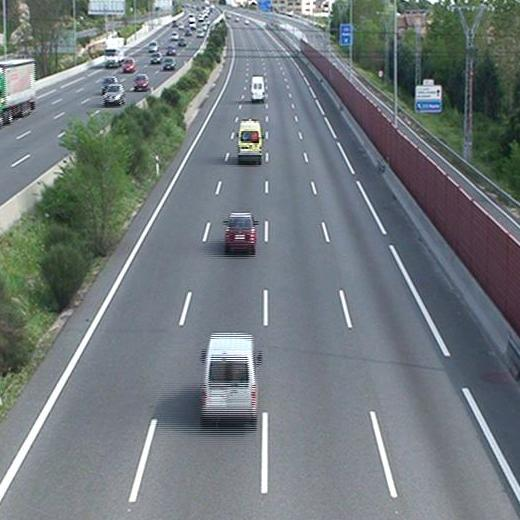car: (223, 213, 256, 252)
van: (201, 334, 260, 425), (234, 120, 263, 162), (248, 77, 265, 102)
